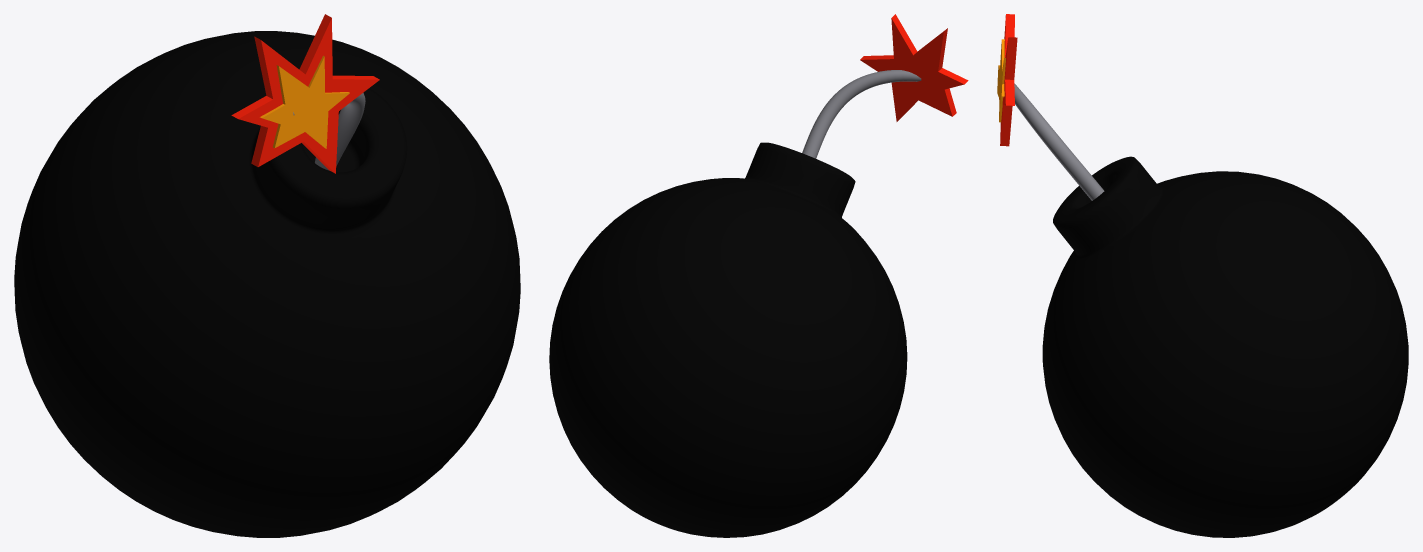
File: bomb.glb
The picture shows the model from 3 angles, left to right: view 1: azimuth 30°, elevation 25°; view 2: azimuth 150°, elevation 25°; view 3: azimuth 270°, elevation 25°; orthographic projection. The views are drawn at different scales.
Parts seen in each view (by area): view 1: Plane.004_Bomb_0; view 2: Plane.004_Bomb_0; view 3: Plane.004_Bomb_0.
Part boxes in pixels (<box>): Plane.004_Bomb_0: <box>14,14,520,537</box>; Plane.004_Bomb_0: <box>549,14,968,537</box>; Plane.004_Bomb_0: <box>997,14,1408,537</box>.
Size of the model in its own units: 1.97 by 2.7 by 2.22.
1 material, 1 textured.
